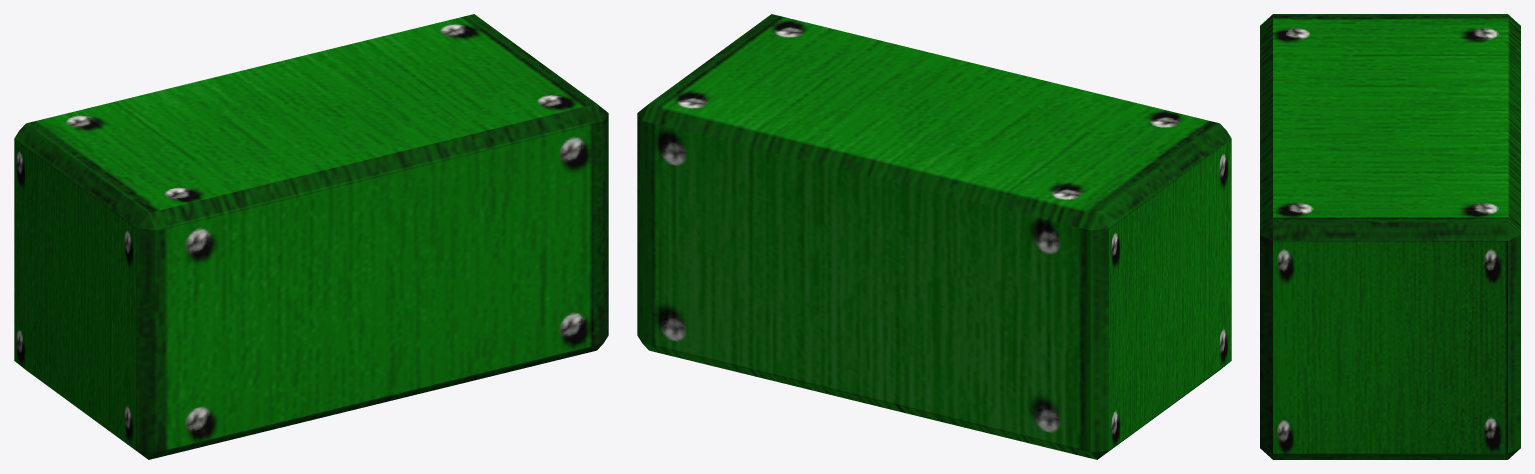
File: Box_1_2x1x1_green.obj
3 renders of one model, left to right at view 1: azimuth 30°, elevation 25°; view 2: azimuth 150°, elevation 25°; view 3: azimuth 270°, elevation 25°, orthographic. The views are drawn at different scales.
Visible parts, largest first — view 1: default; view 2: default; view 3: default.
Part boxes in pixels (x1,y1,x2,y2): default: [14, 14, 608, 459]; default: [637, 14, 1231, 459]; default: [1260, 14, 1520, 459].
Bounding box in the file's own units: 2 × 1 × 1.
